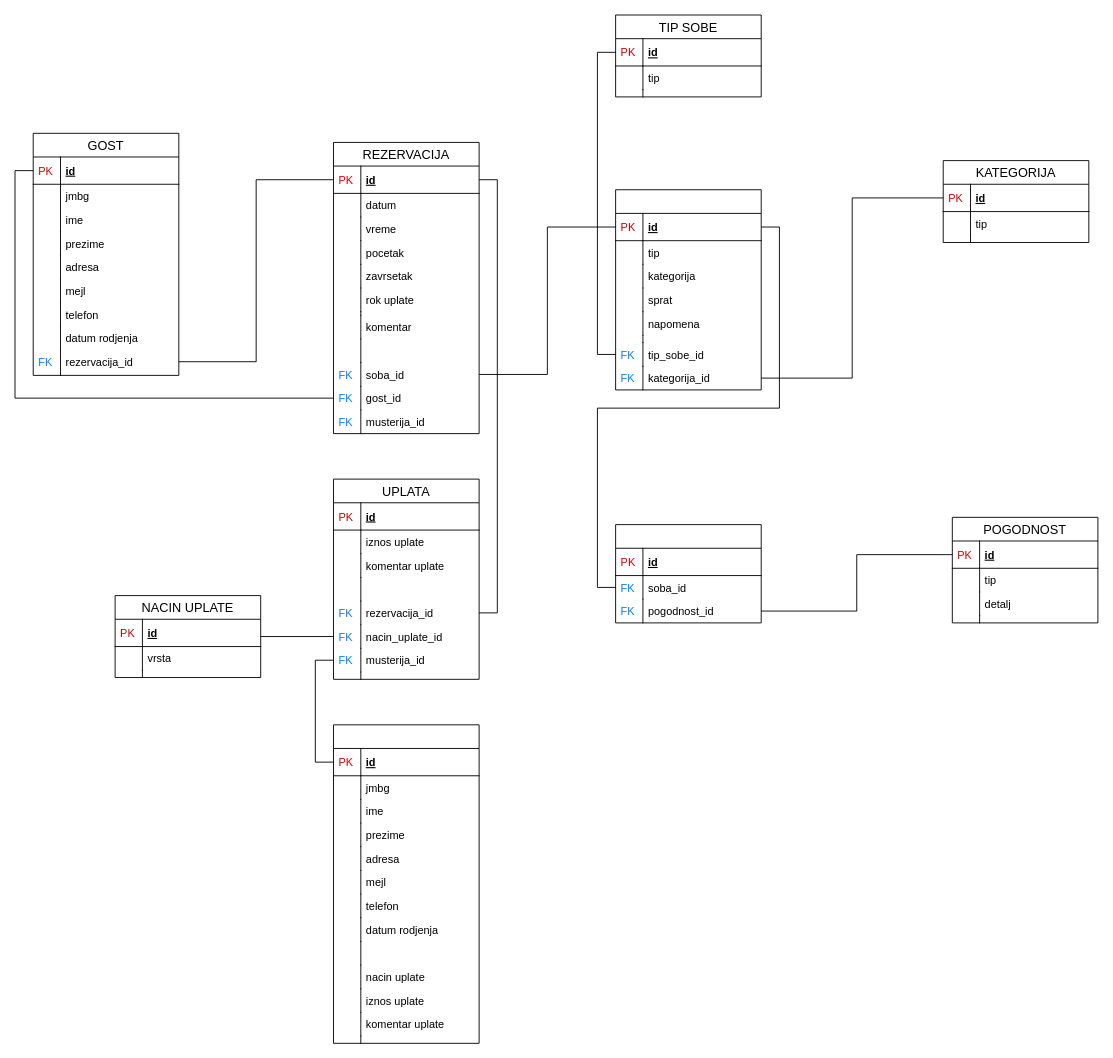
Image size: 1113x1058. Some labels were removed from this diagram. Here are the shapes that lost their labels. From the top down, the box of each, then its label:
(615, 189, 761, 390): SOBA
(615, 524, 761, 623): DODATAK
(333, 724, 479, 1043): MUSTERIJA
